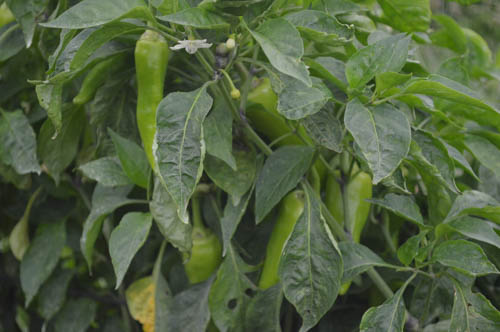ChiliPepper: (328, 164, 376, 299), (258, 189, 314, 292), (248, 79, 314, 165), (132, 38, 168, 184), (185, 235, 224, 281)
